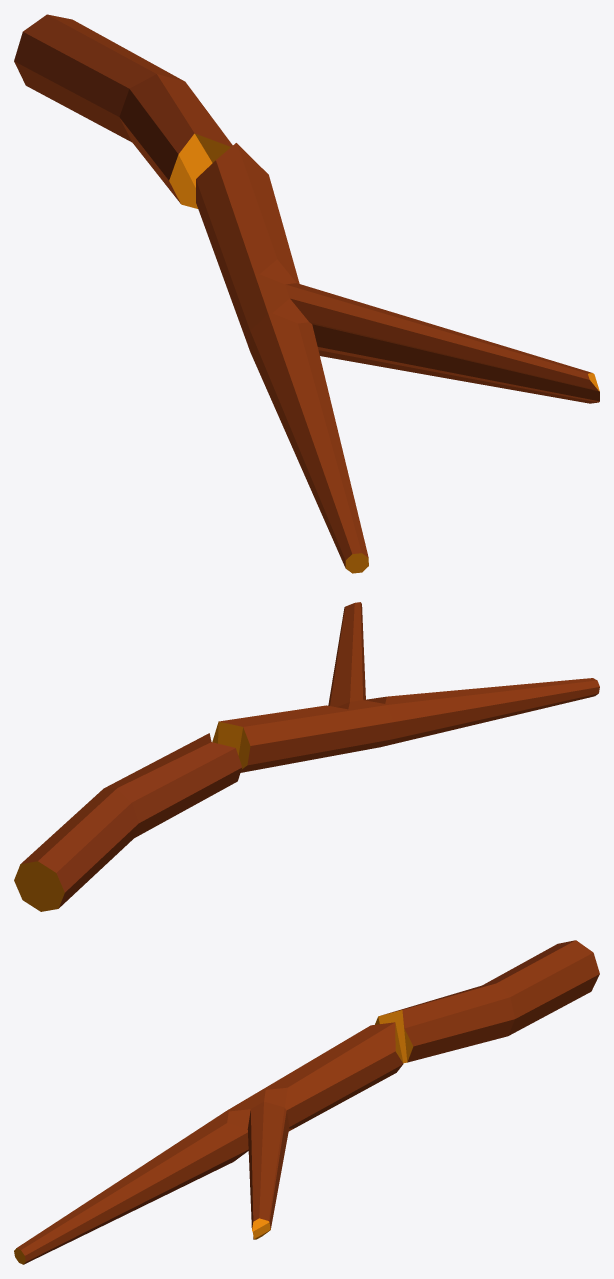
File: Stick_2.fbx
The picture shows the model from 3 angles, top to bottom: view 1: azimuth 30°, elevation 25°; view 2: azimuth 150°, elevation 25°; view 3: azimuth 330°, elevation 25°; orthographic projection. The views are drawn at different scales.
Parts seen in each view (by area): view 1: Circle.034, Circle.027; view 2: Circle.034, Circle.027; view 3: Circle.034, Circle.027.
Part boxes in pixels (x1,y1,x2,y2): Circle.034: [196, 143, 599, 573]; Circle.027: [14, 14, 232, 208]; Circle.034: [212, 602, 599, 772]; Circle.027: [14, 733, 241, 911]; Circle.034: [14, 1022, 403, 1264]; Circle.027: [375, 940, 599, 1063].
Size of the model in its own units: 14.62 by 6.88 by 45.42.
